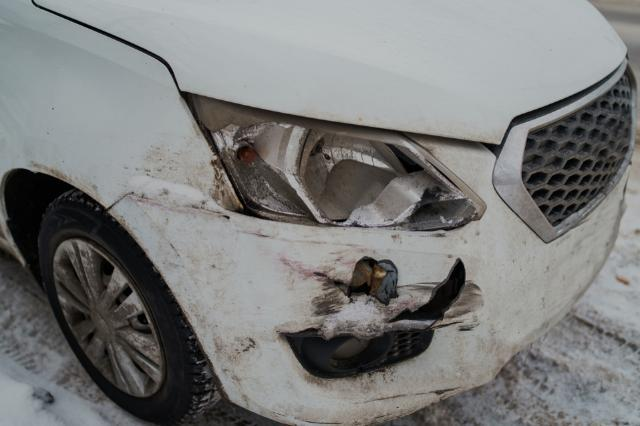Bumper: (146, 219, 560, 422)
Light: (209, 116, 470, 230)
